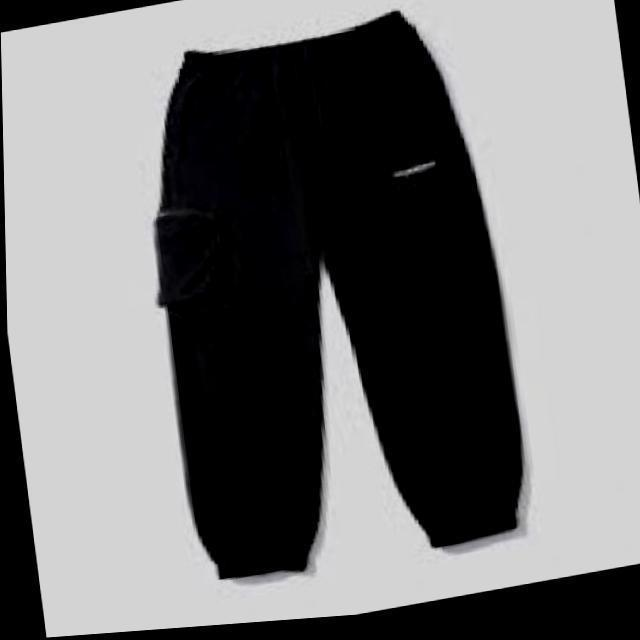pants: (152, 8, 536, 570)
